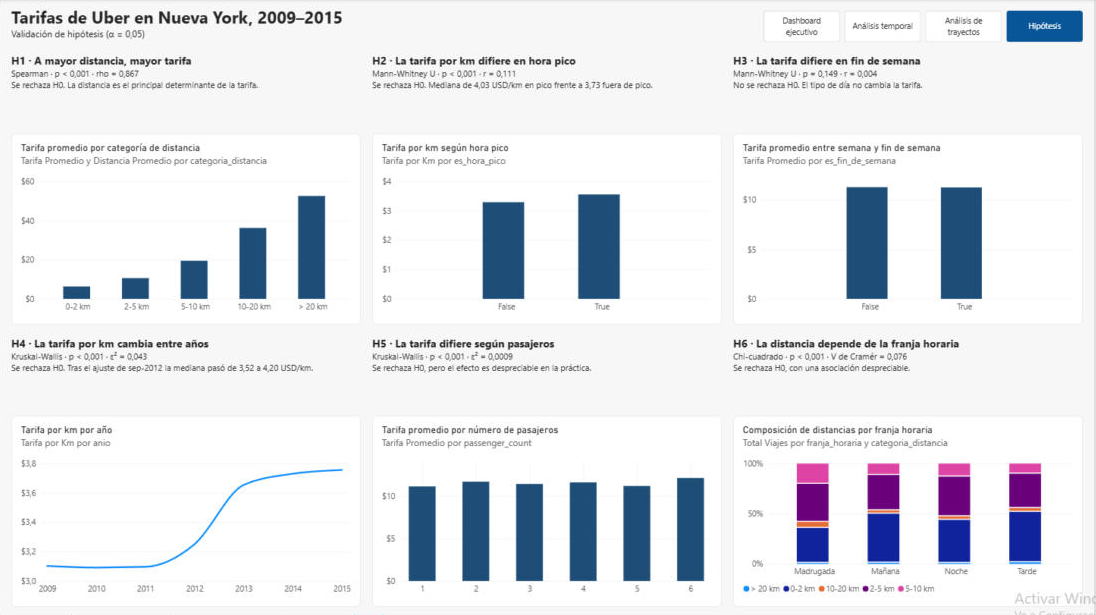

What the dashboard file says about the page in this screenshot:
{"tool":"powerbi","page":{"name":"Hipótesis","canvas":[1920,1080],"ordinal":3},"visuals":[{"type":"textbox","box":[20,10,1300,75],"z":1000},{"type":"pageNavigator","box":[1340,20,560,55],"z":2000},{"type":"textbox","box":[20,95,613,135],"z":3000},{"type":"columnChart","title":"Tarifa promedio por categoría de distancia","fields":{"Category":["fact_viajes.categoria_distancia"],"Y":["_Medidas.Tarifa Promedio"]},"box":[20,235,613,335],"z":4000},{"type":"textbox","box":[653,95,613,135],"z":5000},{"type":"clusteredColumnChart","title":"Tarifa por km según hora pico","fields":{"Category":["fact_viajes.es_hora_pico"],"Y":["_Medidas.Tarifa por Km"]},"box":[653,235,613,335],"z":6000},{"type":"textbox","box":[1286,95,613,135],"z":7000},{"type":"clusteredColumnChart","title":"Tarifa promedio entre semana y fin de semana","fields":{"Category":["dim_fecha.es_fin_de_semana"],"Y":["_Medidas.Tarifa Promedio"]},"box":[1286,235,613,335],"z":8000},{"type":"textbox","box":[20,590,613,135],"z":9000},{"type":"lineChart","title":"Tarifa por km por año","fields":{"Category":["dim_fecha.anio"],"Y":["_Medidas.Tarifa por Km"]},"box":[20,730,613,335],"z":10000},{"type":"textbox","box":[653,590,613,135],"z":11000},{"type":"clusteredColumnChart","title":"Tarifa promedio por número de pasajeros","fields":{"Category":["fact_viajes.passenger_count"],"Y":["_Medidas.Tarifa Promedio"]},"box":[653,730,613,335],"z":12000},{"type":"textbox","box":[1286,590,613,135],"z":13000},{"type":"hundredPercentStackedColumnChart","title":"Composición de distancias por franja horaria","fields":{"Category":["dim_hora.franja_horaria"],"Series":["fact_viajes.categoria_distancia"],"Y":["_Medidas.Total Viajes"]},"box":[1286,730,613,335],"z":14000}]}

Visuals, with their boxes on the page's 1920x1080 design canvas (x1, y1, x2, y2). These are canvas units, not pixel positions in the 1096x615 screenshot, which may show the page scaled, cropped or inside an application window:
textbox: Rect(20, 10, 1320, 85)
pageNavigator: Rect(1340, 20, 1900, 75)
textbox: Rect(20, 95, 633, 230)
"Tarifa promedio por categoría de distancia" columnChart: Rect(20, 235, 633, 570)
textbox: Rect(653, 95, 1266, 230)
"Tarifa por km según hora pico" clusteredColumnChart: Rect(653, 235, 1266, 570)
textbox: Rect(1286, 95, 1899, 230)
"Tarifa promedio entre semana y fin de semana" clusteredColumnChart: Rect(1286, 235, 1899, 570)
textbox: Rect(20, 590, 633, 725)
"Tarifa por km por año" lineChart: Rect(20, 730, 633, 1065)
textbox: Rect(653, 590, 1266, 725)
"Tarifa promedio por número de pasajeros" clusteredColumnChart: Rect(653, 730, 1266, 1065)
textbox: Rect(1286, 590, 1899, 725)
"Composición de distancias por franja horaria" hundredPercentStackedColumnChart: Rect(1286, 730, 1899, 1065)
